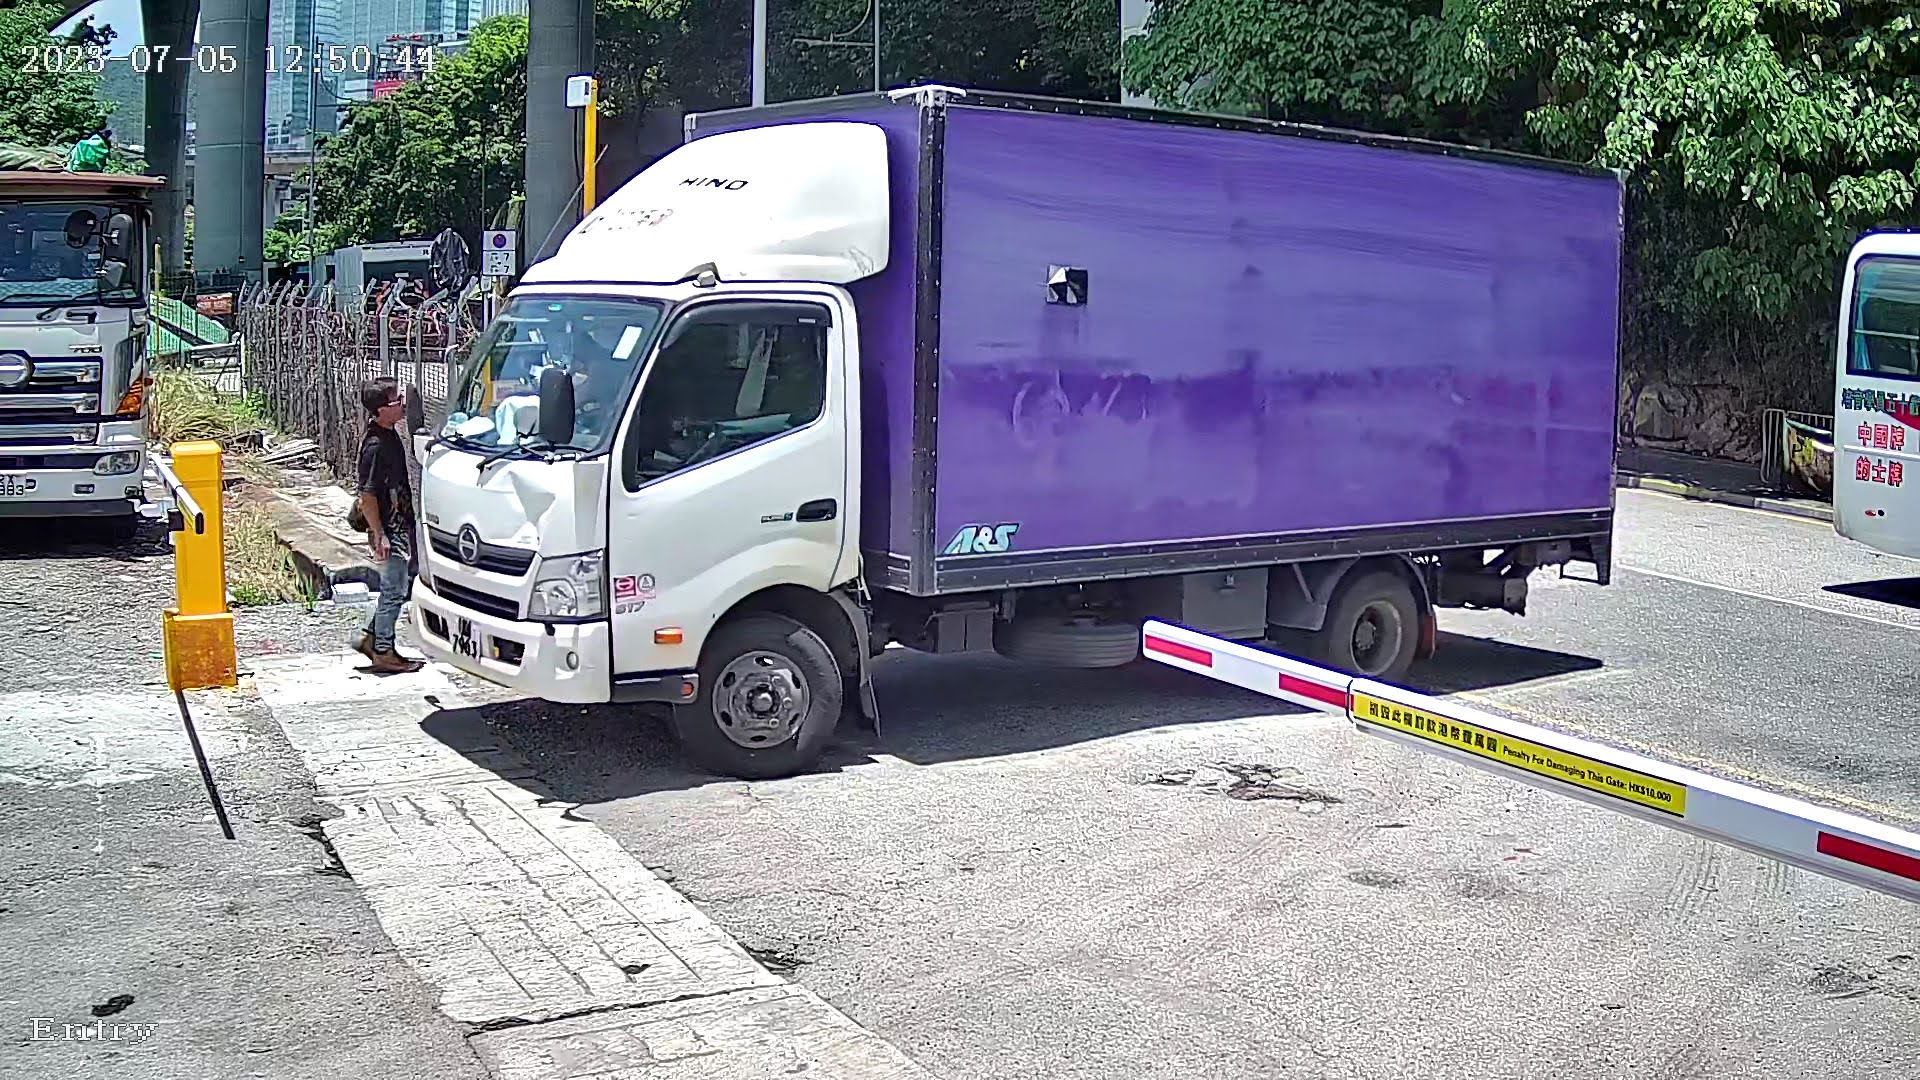truck: (363, 21, 1655, 845)
